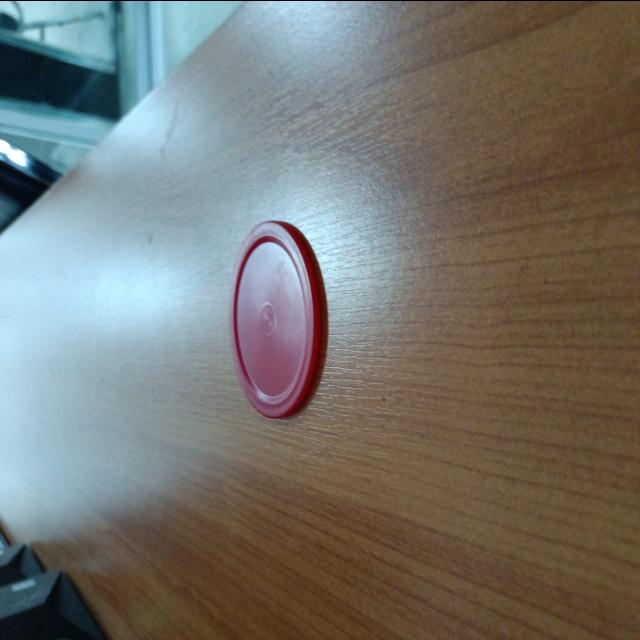chip: (226, 216, 322, 420)
